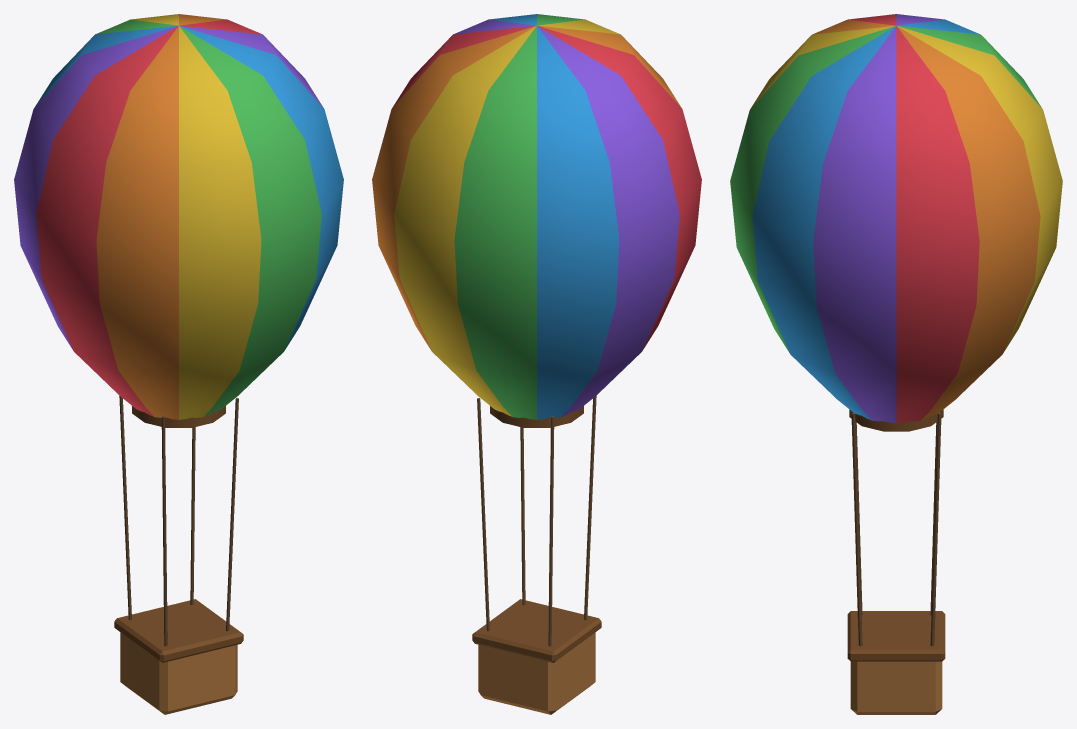
The model's file is carnival-deco1.glb.
The picture shows the model from 3 angles, left to right: view 1: azimuth 30°, elevation 25°; view 2: azimuth 150°, elevation 25°; view 3: azimuth 270°, elevation 25°; orthographic projection.
Parts seen in each view (by area): view 1: carnival-deco1; view 2: carnival-deco1; view 3: carnival-deco1.
Boxes of the visible parts, left/top/right/bottom form: carnival-deco1: left=14, top=14, right=343, bottom=714; carnival-deco1: left=372, top=14, right=701, bottom=714; carnival-deco1: left=730, top=14, right=1062, bottom=714.
Size of the model in its own units: 2.04 by 4.55 by 2.04.
